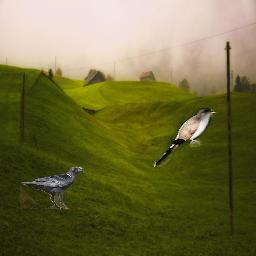Crow: (20, 166, 84, 209)
Cuckoo: (153, 108, 218, 167)
